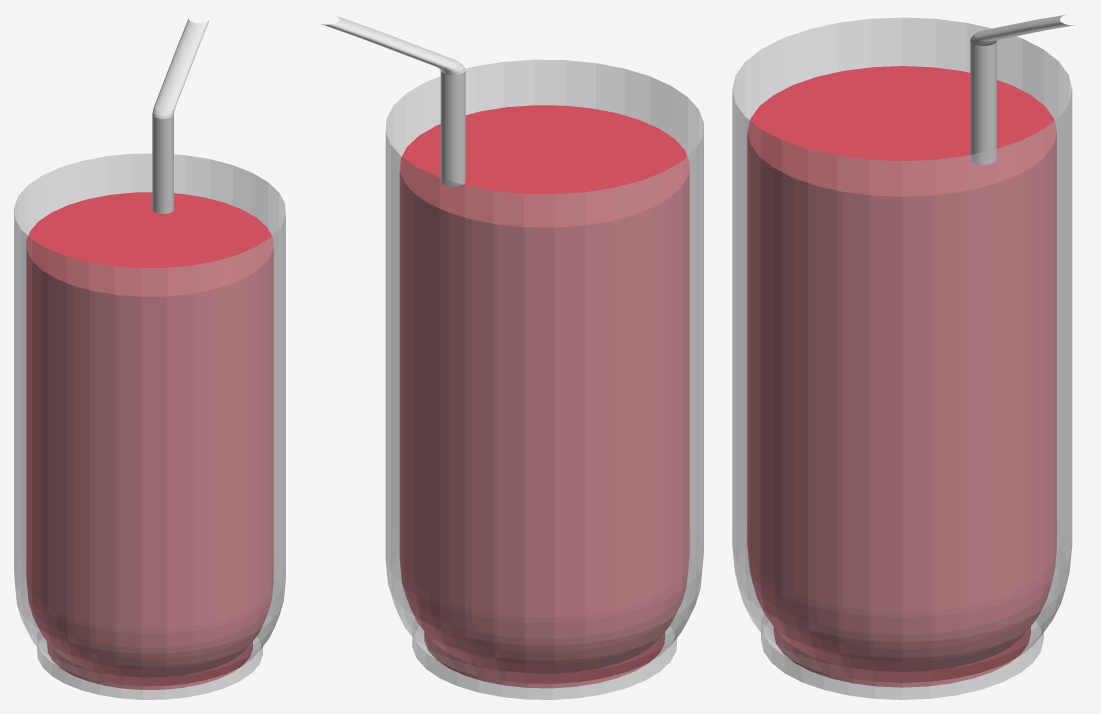
The model's file is smoothie.glb.
3 views of the same model, side by side, from view 1: azimuth 30°, elevation 25°; view 2: azimuth 150°, elevation 25°; view 3: azimuth 270°, elevation 25° (orthographic). The views are drawn at different scales.
Visible parts, largest first — view 1: Cylinder, Cylinder.001, Cylinder.002; view 2: Cylinder, Cylinder.001, Cylinder.002; view 3: Cylinder, Cylinder.001, Cylinder.002.
Boxes of the visible parts, bbox=[...] form: Cylinder: bbox=[14, 153, 285, 699]; Cylinder.001: bbox=[26, 192, 273, 689]; Cylinder.002: bbox=[152, 18, 209, 213]; Cylinder: bbox=[385, 59, 703, 699]; Cylinder.001: bbox=[399, 105, 689, 688]; Cylinder.002: bbox=[321, 16, 465, 186]; Cylinder: bbox=[732, 17, 1072, 699]; Cylinder.001: bbox=[747, 66, 1056, 687]; Cylinder.002: bbox=[970, 15, 1076, 164].
Size of the model in its own units: 2.5 by 5.41 by 2.51.
